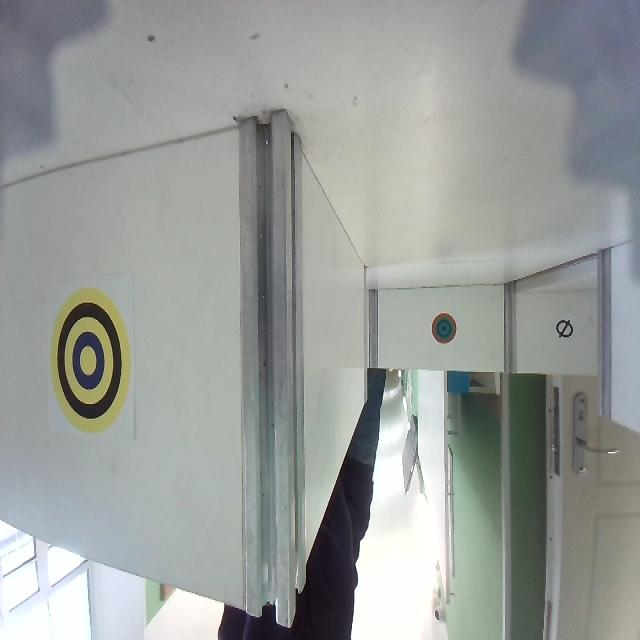cogn: (50, 285, 132, 435)
